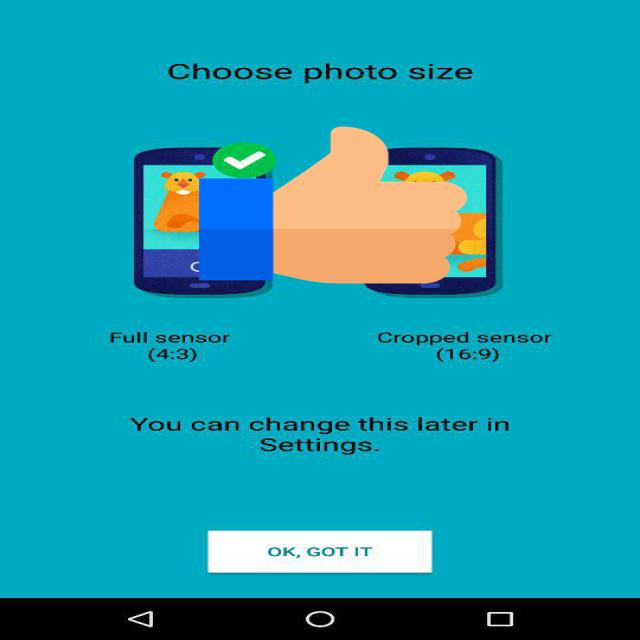privacy zuckering: (199, 123, 467, 287)
